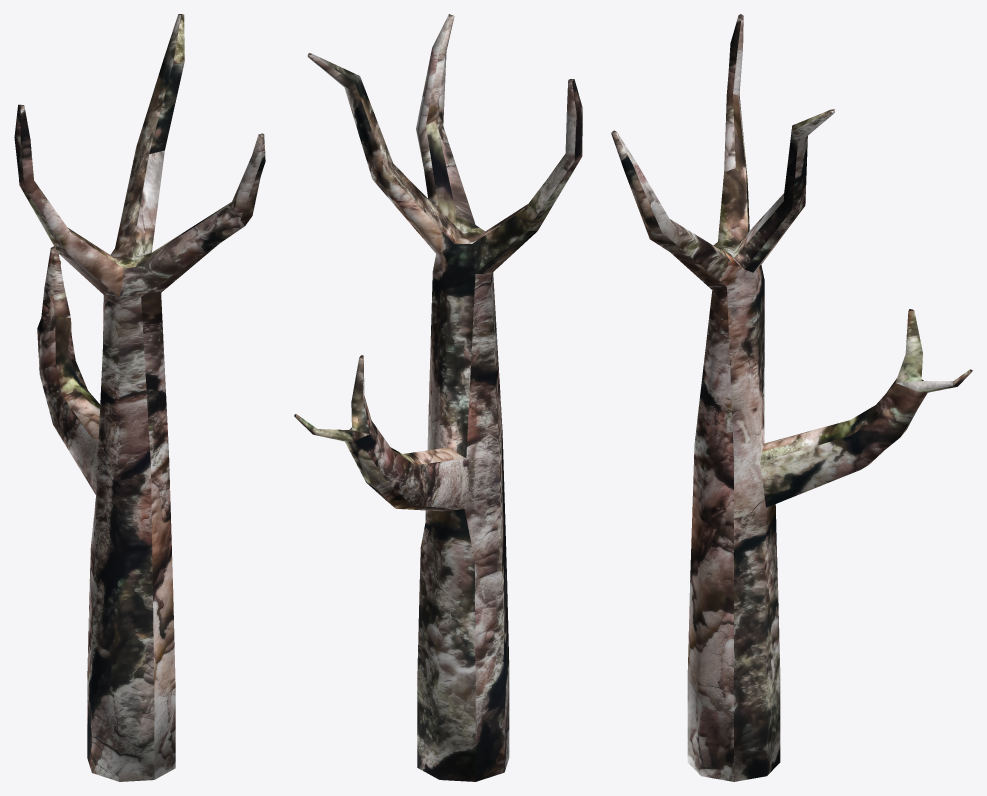
File: dead_tree.glb
The picture shows the model from 3 angles, left to right: view 1: azimuth 30°, elevation 25°; view 2: azimuth 150°, elevation 25°; view 3: azimuth 270°, elevation 25°; orthographic projection. The views are drawn at different scales.
Parts seen in each view (by area): view 1: Cylinder; view 2: Cylinder; view 3: Cylinder.
Part boxes in pixels (x1=…): Cylinder: x1=14, y1=14, x2=265, y2=781; Cylinder: x1=294, y1=14, x2=582, y2=781; Cylinder: x1=611, y1=14, x2=972, y2=781.
Bounding box in the file's own units: 5.43 × 16.66 × 7.79.
1 material, 1 textured.
